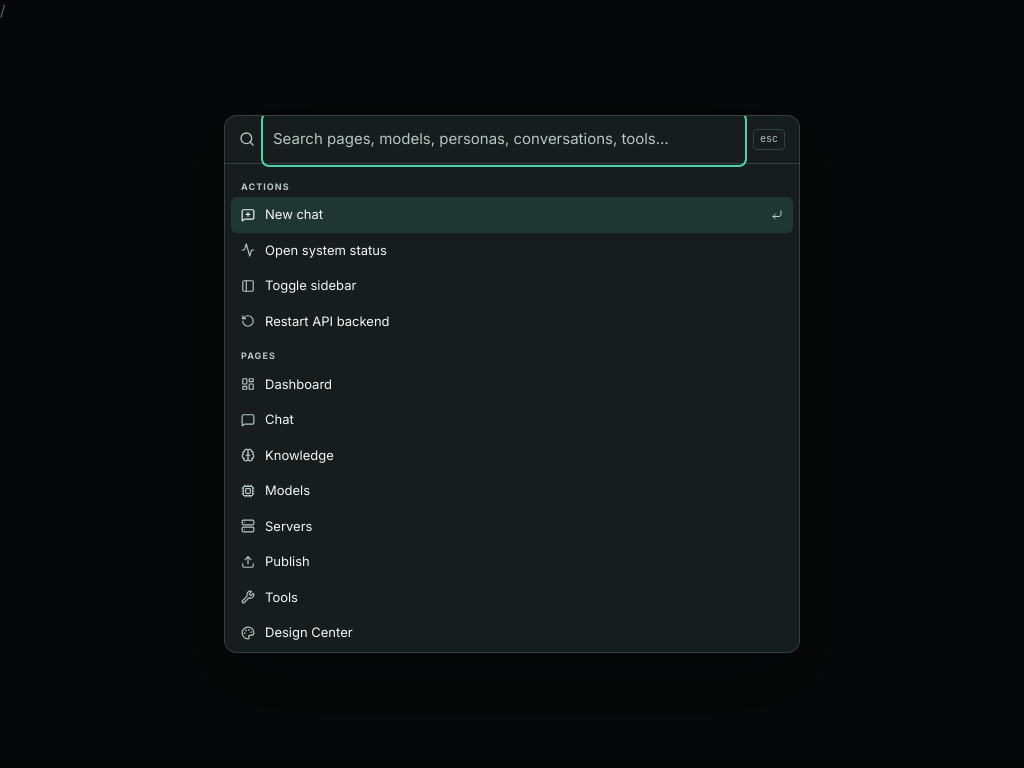
CommandPalette › reports when nothing matches
Type "zzzznope" into the field named "Search commands" at (504, 139), box [265, 116, 743, 163]
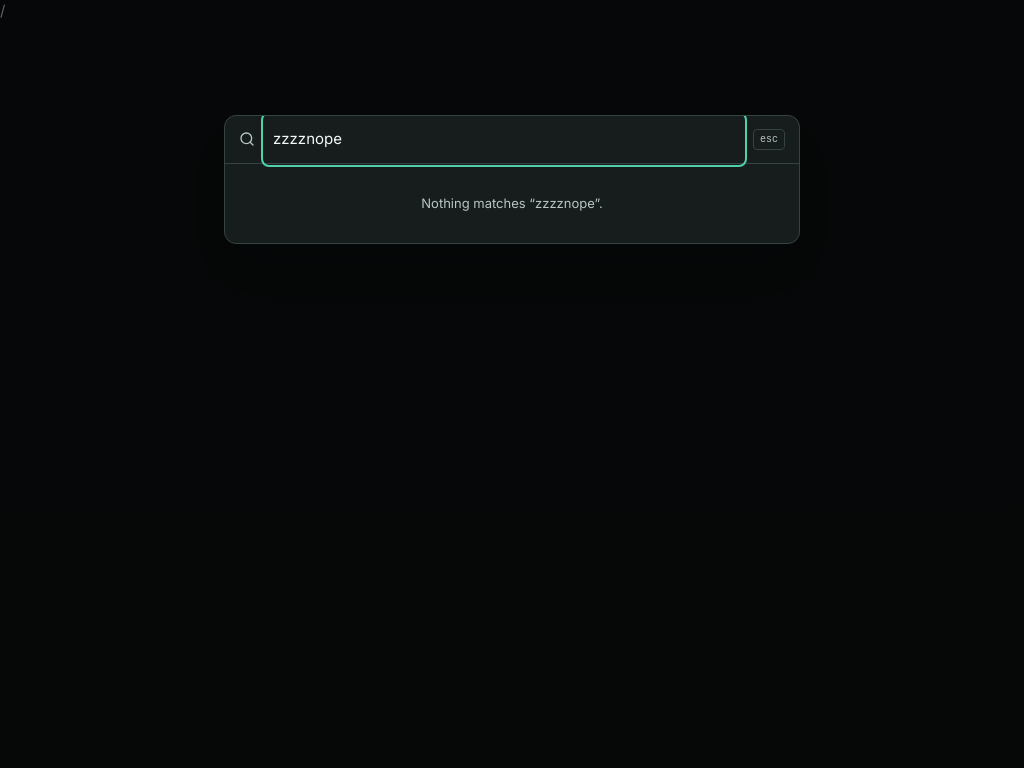
Expected: the text "Nothing matches “zzzznope”." is shown, [421, 195, 603, 211]
